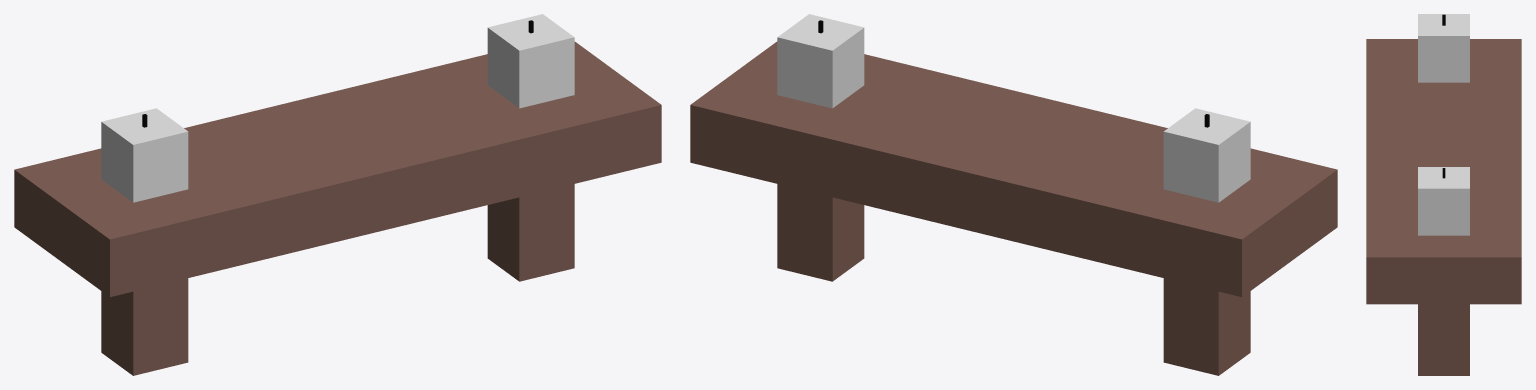
Rendered from panca fbx.fbx.
3 renders of one model, left to right at view 1: azimuth 30°, elevation 25°; view 2: azimuth 150°, elevation 25°; view 3: azimuth 270°, elevation 25°, orthographic. The views are drawn at different scales.
Visible parts, largest first — view 1: panca; view 2: panca; view 3: panca.
Part boxes in pixels (x1,y1,x2,y2): panca: [14, 14, 661, 375]; panca: [690, 14, 1337, 375]; panca: [1366, 14, 1521, 375].
Size of the model in its own units: 100 by 42.02 by 30.
